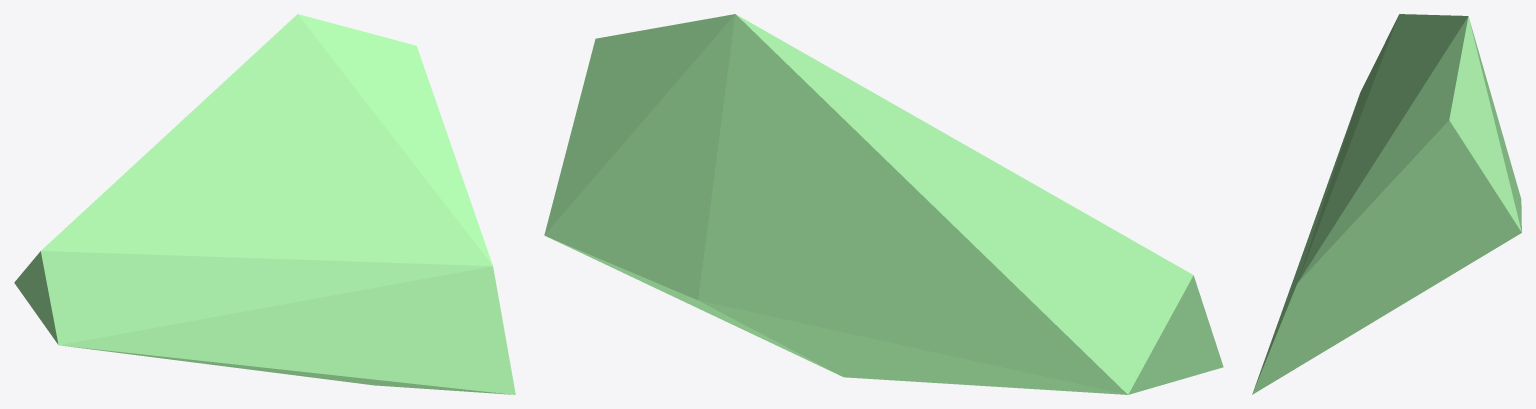
The model's file is linkhou_LR4_R560_link7_respondable_coll_11.dae.
3 views of the same model, side by side, from view 1: azimuth 30°, elevation 25°; view 2: azimuth 150°, elevation 25°; view 3: azimuth 270°, elevation 25° (orthographic). The views are drawn at different scales.
Parts seen in each view (by area): view 1: Node_00000209DB3AD090; view 2: Node_00000209DB3AD090; view 3: Node_00000209DB3AD090.
Part boxes in pixels (x1,y1,x2,y2): Node_00000209DB3AD090: [14, 14, 515, 394]; Node_00000209DB3AD090: [544, 14, 1223, 394]; Node_00000209DB3AD090: [1252, 14, 1521, 394].
Bounding box in the file's own units: 0.011 × 0.00858 × 0.00644.
